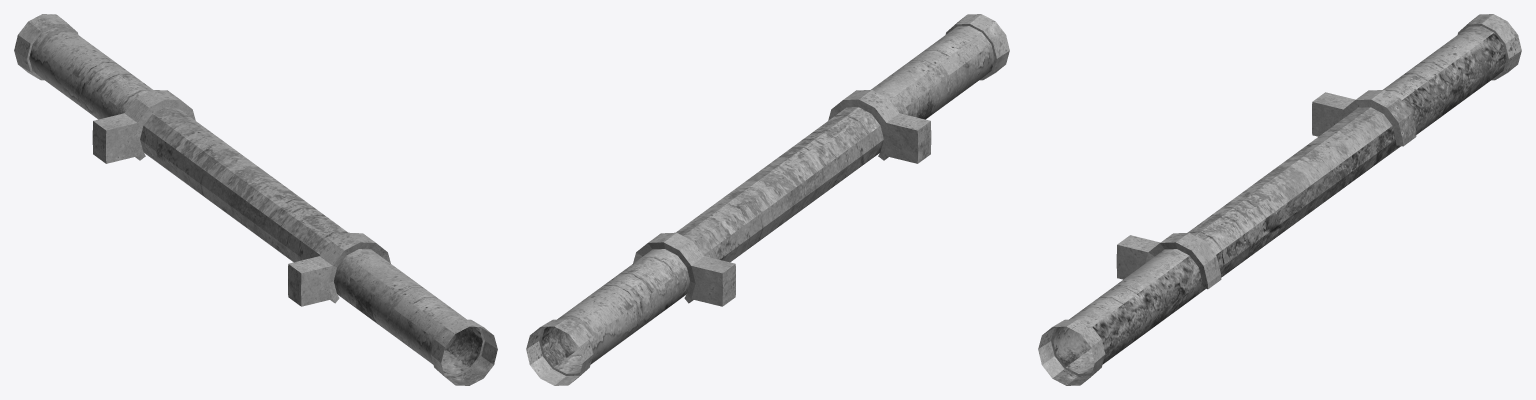
File: pipe_large.FBX
The picture shows the model from 3 angles, left to right: view 1: azimuth 30°, elevation 25°; view 2: azimuth 150°, elevation 25°; view 3: azimuth 330°, elevation 25°; orthographic projection.
Parts seen in each view (by area): view 1: pipe_large; view 2: pipe_large; view 3: pipe_large.
Part boxes in pixels (x1=…): pipe_large: x1=14, y1=14, x2=497, y2=385; pipe_large: x1=526, y1=14, x2=1009, y2=385; pipe_large: x1=1038, y1=14, x2=1521, y2=385.
Bounding box in the file's own units: 78.4 × 52.05 × 634.
Materials: 1 (1 with a texture image).
